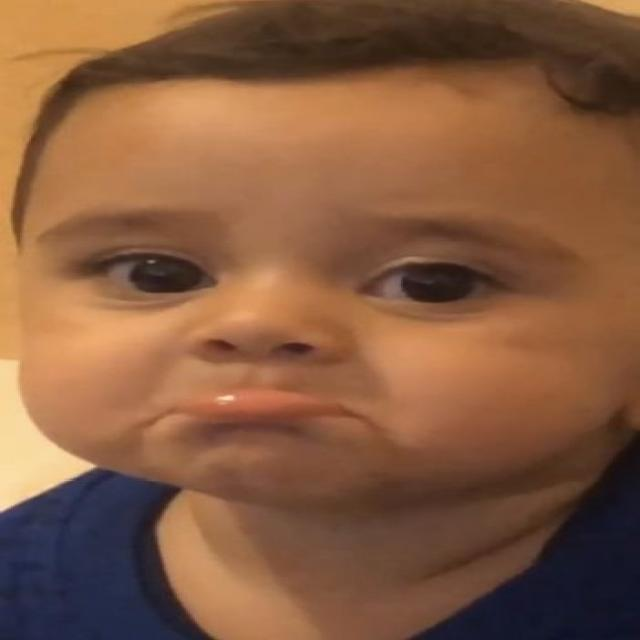sad: (42, 121, 614, 488)
